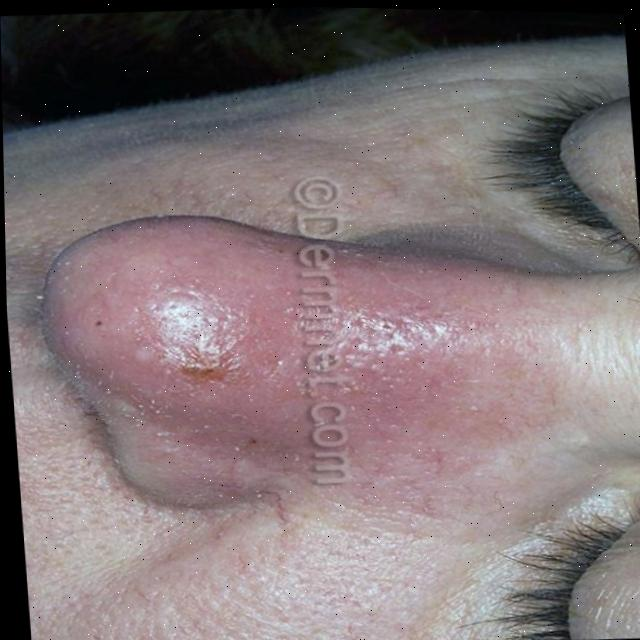Rosacea: (55, 234, 516, 443)
